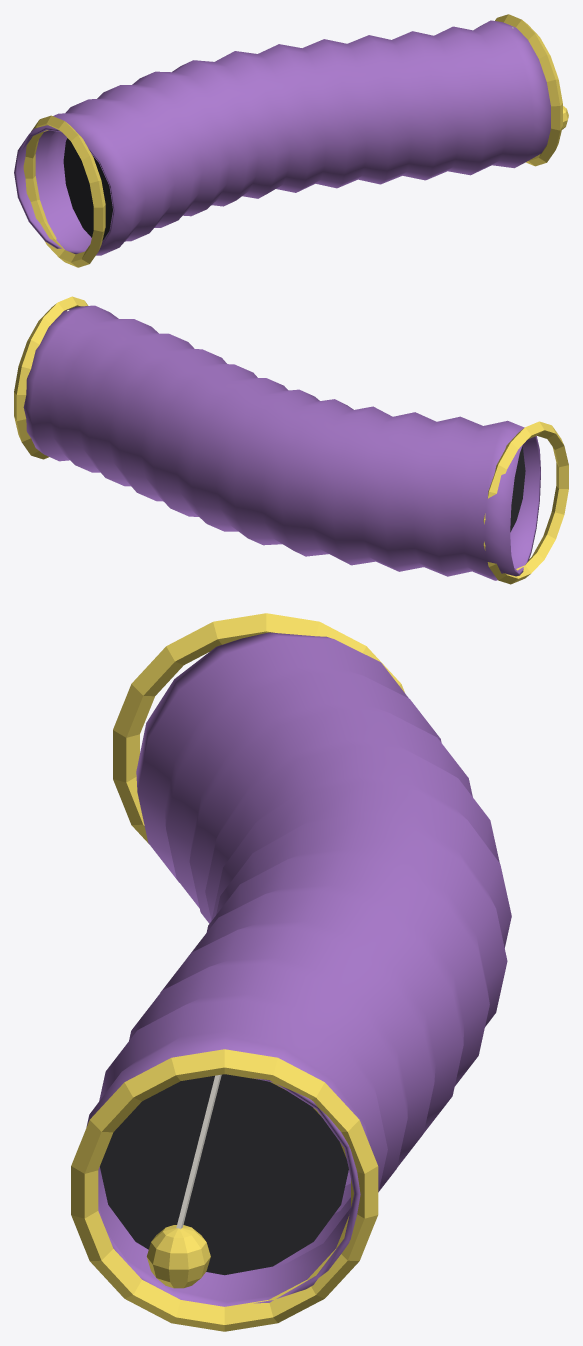
The model's file is cat_tunnel.glb.
3 renders of one model, top to bottom at view 1: azimuth 30°, elevation 25°; view 2: azimuth 150°, elevation 25°; view 3: azimuth 270°, elevation 25°, orthographic. The views are drawn at different scales.
Parts seen in each view (by area): view 1: cat_tunnel; view 2: cat_tunnel; view 3: cat_tunnel.
Boxes of the visible parts, x1,y1,x2,y2 form: cat_tunnel: [14, 14, 568, 267]; cat_tunnel: [14, 296, 568, 584]; cat_tunnel: [71, 613, 511, 1331].
Bounding box in the file's own units: 1.25 × 0.34 × 0.4805.
